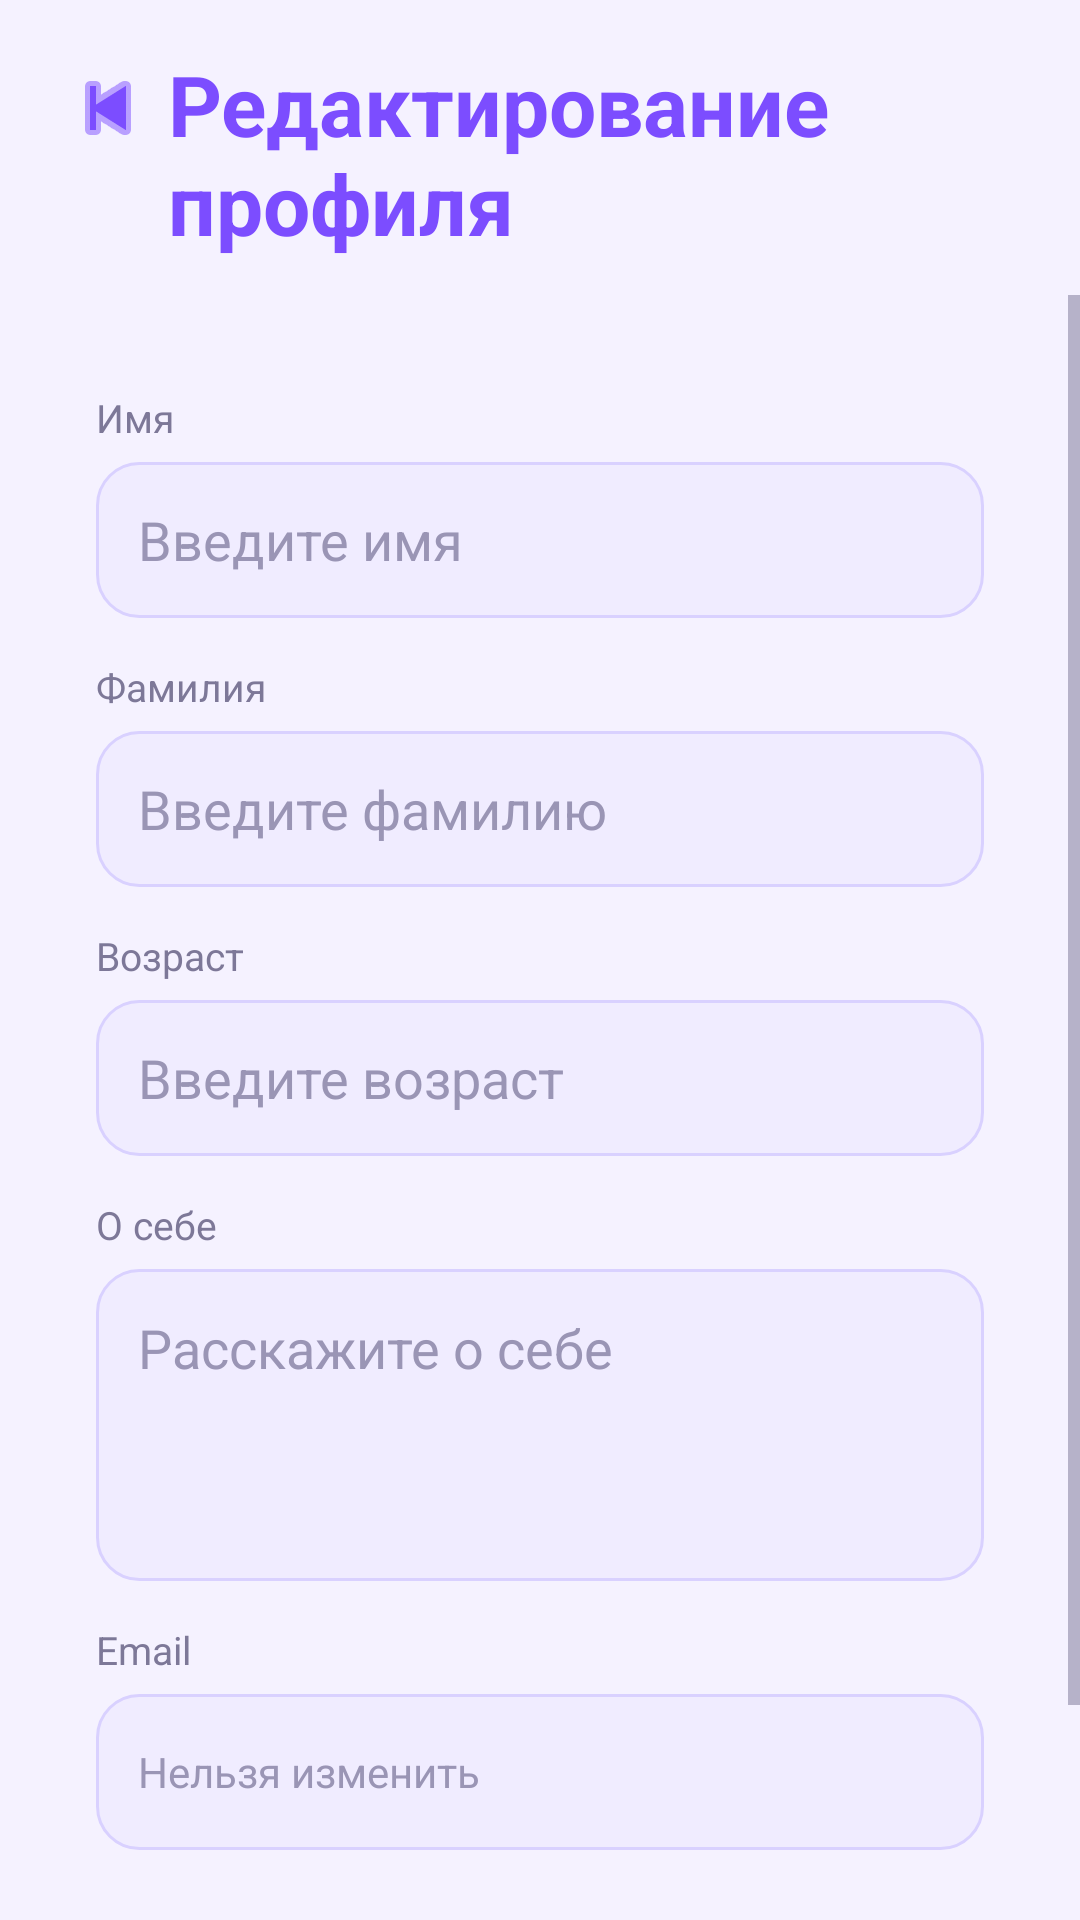

Icon bounding boxes for this 1080×1920 phone screenshot, format (x1, y1, x2, y2):
Назад: (85, 81, 131, 135)
